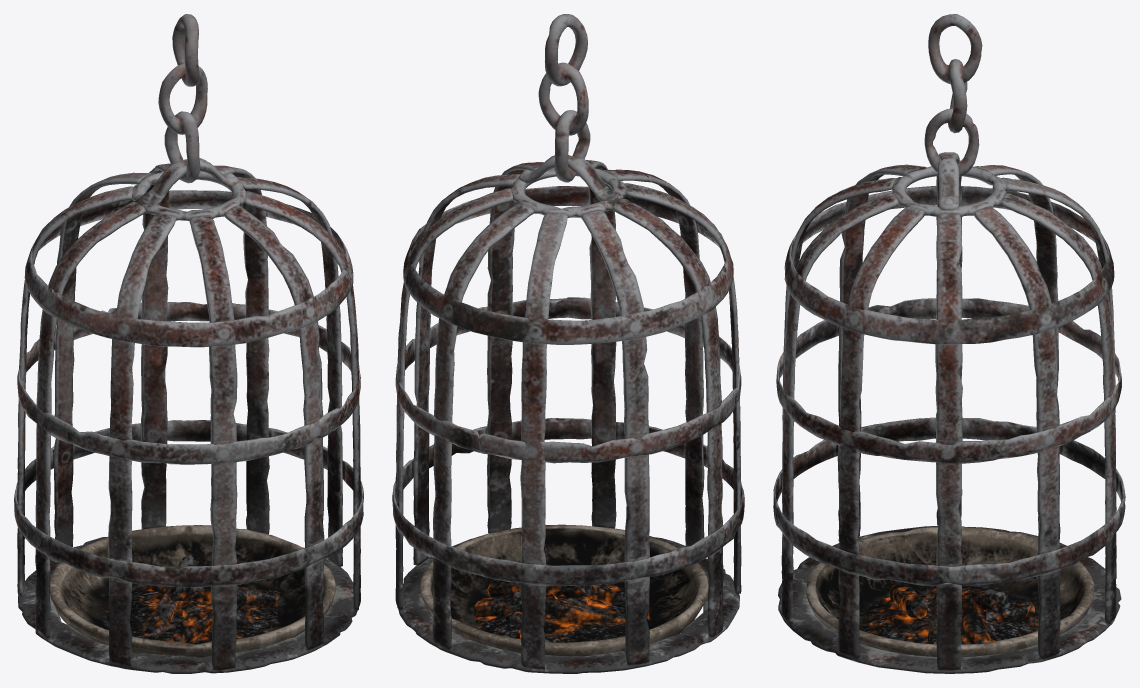
Rendered from cage_lamp.glb.
3 renders of one model, left to right at view 1: azimuth 30°, elevation 25°; view 2: azimuth 150°, elevation 25°; view 3: azimuth 270°, elevation 25°, orthographic.
Visible parts, largest first — view 1: CageCandle; view 2: CageCandle; view 3: CageCandle.
Part boxes in pixels (<box>): CageCandle: <box>14,14,363,673</box>; CageCandle: <box>392,14,744,673</box>; CageCandle: <box>773,14,1125,673</box>.
Size of the model in its own units: 25.56 by 50.05 by 25.54.
Materials: 1 (1 with a texture image).
